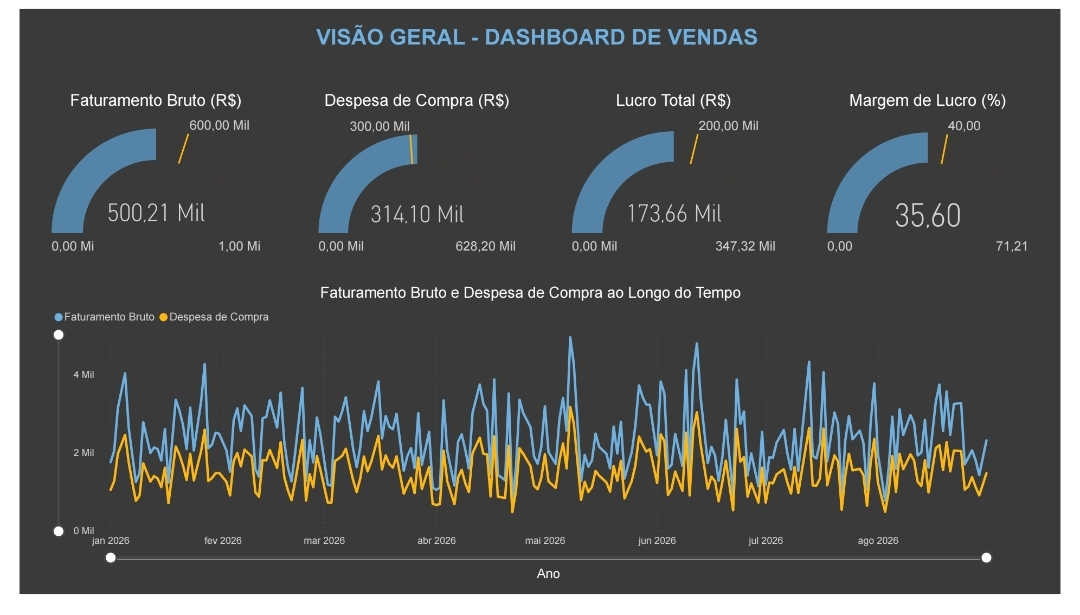

The page's visual inventory and layout, read from the dashboard file:
{"tool":"powerbi","page":{"name":"Visão Geral","canvas":[1280,720],"ordinal":1},"visuals":[{"type":"gauge","title":"Faturamento Bruto (R$)","fields":{"Y":["medidas.faturamento_bruto"]},"box":[18.4,101.1,300.1,206.7],"z":0},{"type":"gauge","title":"Despesa de Compra (R$)","fields":{"Y":["medidas.despesa_de_compra"]},"box":[338.4,101.1,301.6,206.7],"z":1000},{"type":"gauge","title":"Lucro Total (R$)","fields":{"Y":["medidas.lucro_total"]},"box":[653.8,101.1,301.6,206.7],"z":2000},{"type":"gauge","title":"Margem de Lucro (%)","fields":{"Y":["medidas.margem_de_lucro"]},"box":[966.1,101.1,301.6,206.7],"z":3000},{"type":"lineChart","title":"Faturamento Bruto e Despesa de Compra ao Longo do Tempo","fields":{"Y":["medidas.faturamento_bruto","medidas.despesa_de_compra"],"Category":["dw dim_data.datacompleta.Variation.Hierarquia de datas.Ano","dw dim_data.datacompleta.Variation.Hierarquia de datas.Trimestre","dw dim_data.datacompleta.Variation.Hierarquia de datas.Mês","dw dim_data.datacompleta.Variation.Hierarquia de datas.Dia"]},"box":[36.7,338.4,1183.5,369],"z":4000},{"type":"textbox","box":[99.5,15.3,1073.3,61.2],"z":5000}]}

Visuals, with their boxes in screenshot pixels (x1, y1, x2, y2), scaled from the page's 1280x720 canvas onto the 1080x615 screenshot:
"Faturamento Bruto (R$)" gauge: crop(16, 86, 269, 263)
"Despesa de Compra (R$)" gauge: crop(286, 86, 540, 263)
"Lucro Total (R$)" gauge: crop(552, 86, 806, 263)
"Margem de Lucro (%)" gauge: crop(815, 86, 1070, 263)
"Faturamento Bruto e Despesa de Compra ao Longo do Tempo" lineChart: crop(31, 289, 1030, 604)
textbox: crop(84, 13, 990, 65)
